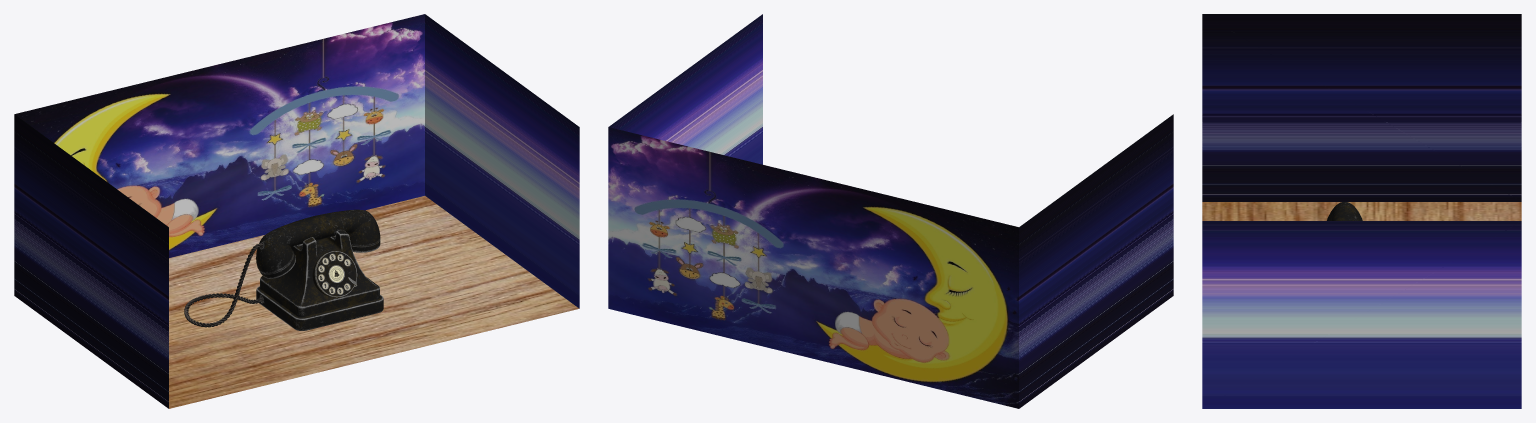
File: Retro Telephon.fbx
3 views of the same model, side by side, from view 1: azimuth 30°, elevation 25°; view 2: azimuth 150°, elevation 25°; view 3: azimuth 270°, elevation 25° (orthographic). The views are drawn at different scales.
Visible parts, largest first — view 1: Oboi, Taple, Korpus, Telephon_Trybka, Disk, Shyr; view 2: Oboi; view 3: Oboi, Taple, Telephon_Trybka.
Part boxes in pixels (x1,y1,x2,y2): Oboi: (14, 14, 579, 408); Taple: (169, 196, 578, 408); Korpus: (256, 230, 383, 330); Telephon_Trybka: (256, 209, 380, 278); Disk: (315, 251, 357, 297); Shyr: (184, 243, 263, 327); Oboi: (608, 14, 1173, 408); Oboi: (1202, 14, 1521, 408); Taple: (1202, 202, 1521, 220); Telephon_Trybka: (1327, 202, 1362, 220).
Bounding box in the file's own units: 78.39 × 33.18 × 51.07.
